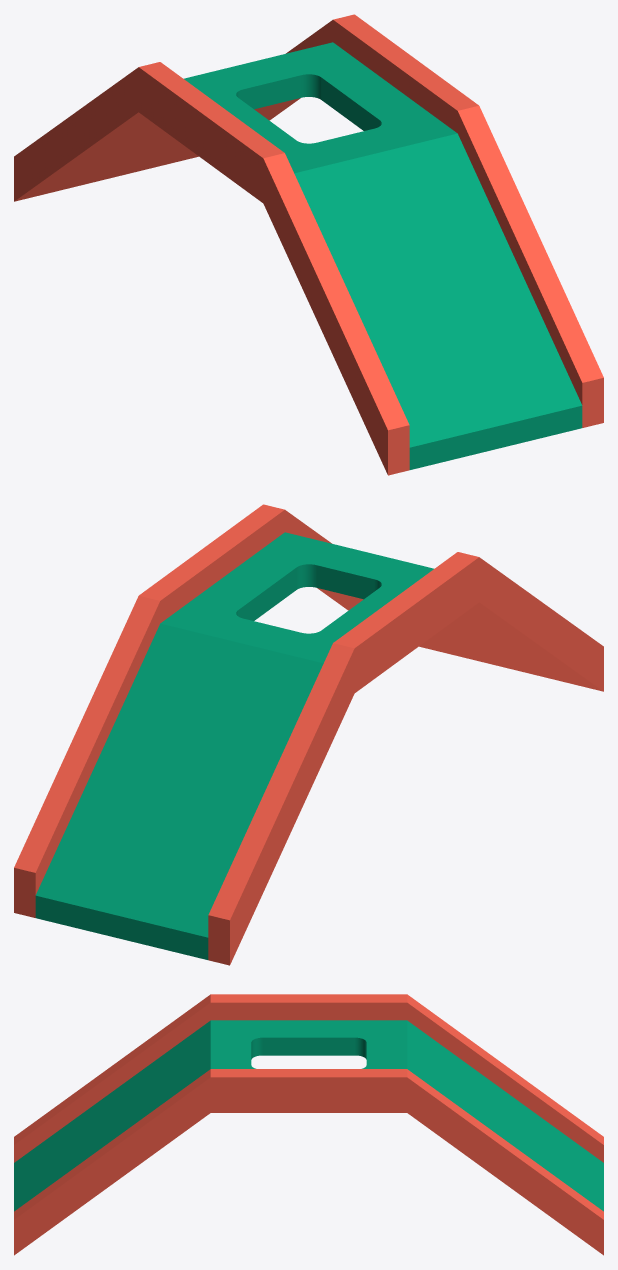
File: brokenBridge.fbx
3 views of the same model, one above another, from view 1: azimuth 30°, elevation 25°; view 2: azimuth 150°, elevation 25°; view 3: azimuth 270°, elevation 25° (orthographic). The views are drawn at different scales.
Parts seen in each view (by area): view 1: mergedBlocks; view 2: mergedBlocks; view 3: mergedBlocks.
Part boxes in pixels (box(x1,y1,x2,y2)): mergedBlocks: box(14, 14, 603, 475); mergedBlocks: box(14, 504, 603, 965); mergedBlocks: box(14, 994, 603, 1255).
Size of the model in its own units: 10 by 10 by 30.
